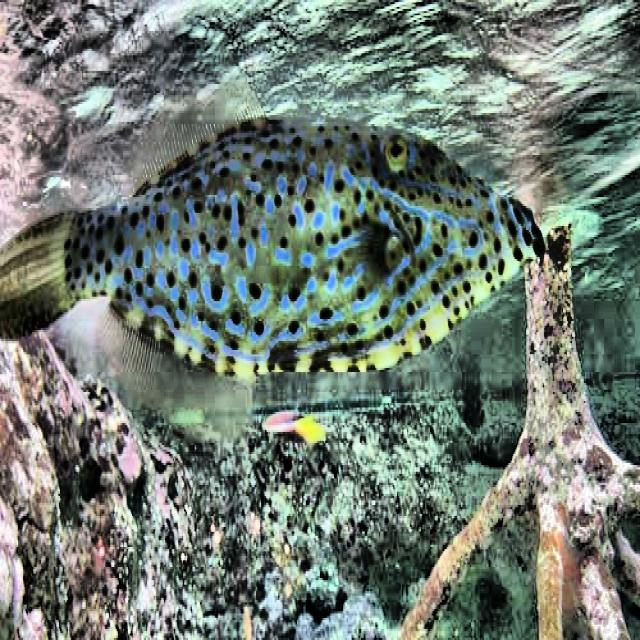fish: (3, 108, 549, 424)
